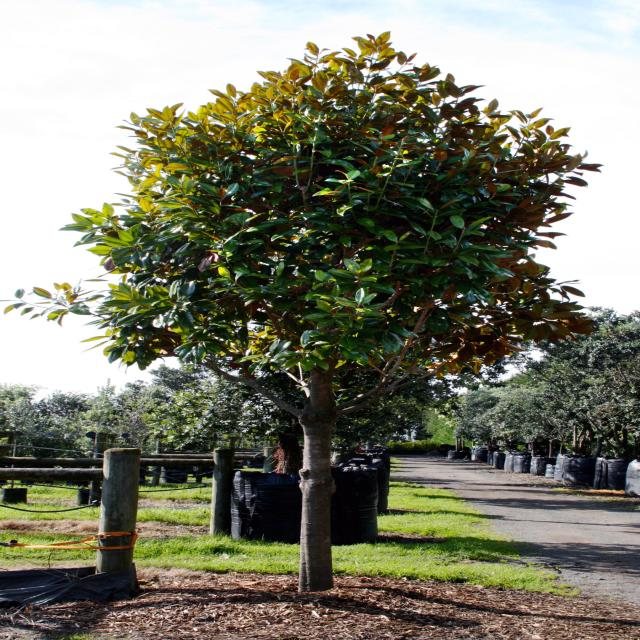Magnolia grandiflora: (17, 38, 598, 590)
